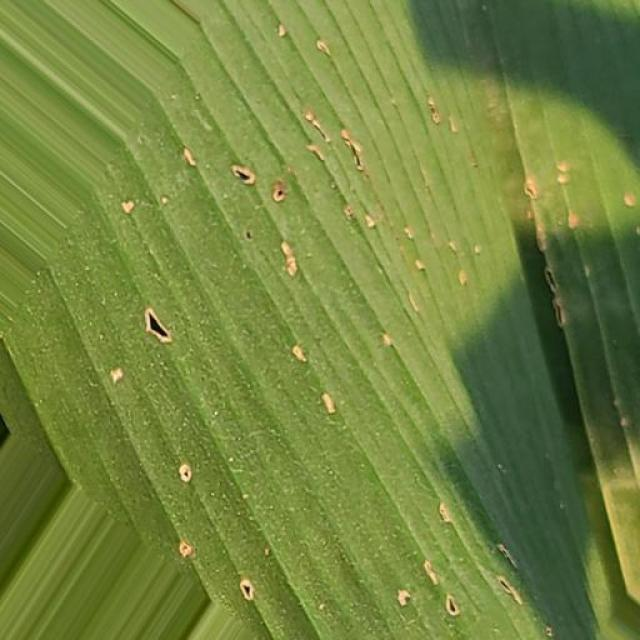Black_rot: (86, 6, 626, 632)
